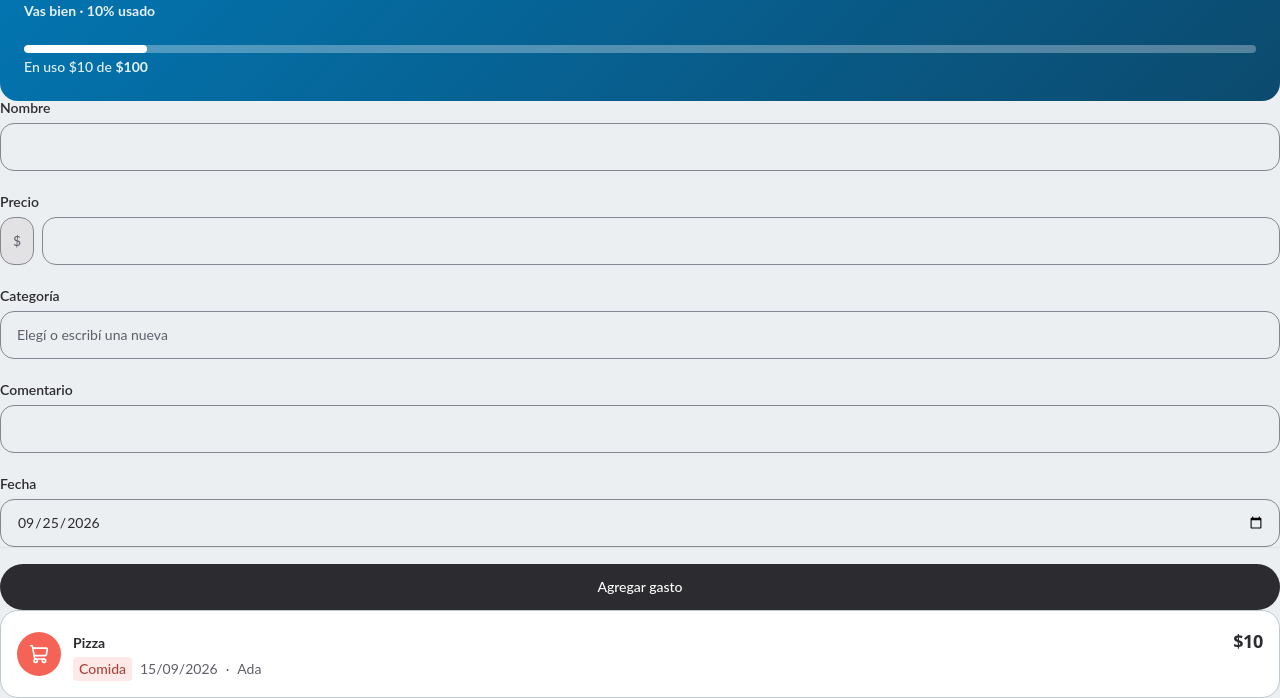
Test: EditExpenseFlow › lets a non-author household member edit an expense
(page scrolled)
Click the button with aria-label "Editar Pizza". click: [39, 654]
box: left=0, top=610, right=1279, bottom=697
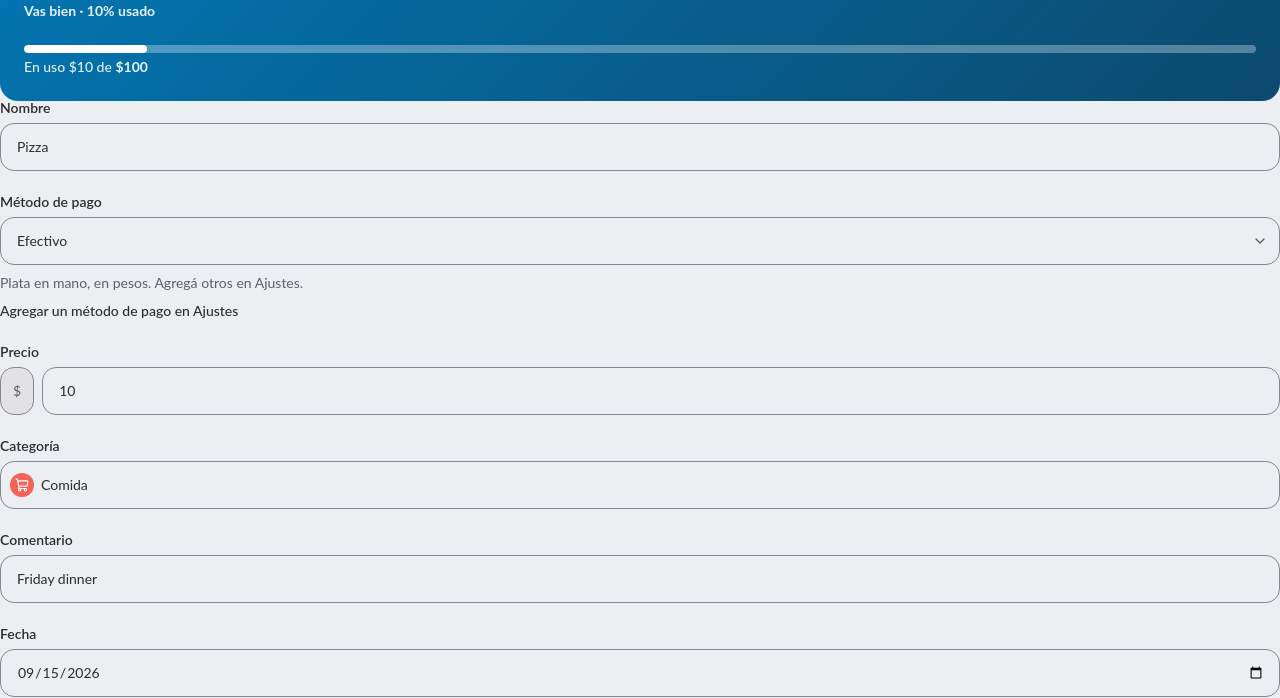
Replace the text in the field labelled "Nombre" with "Shared edit". click: [640, 146]
box: left=0, top=122, right=1279, bottom=170
(page scrolled)
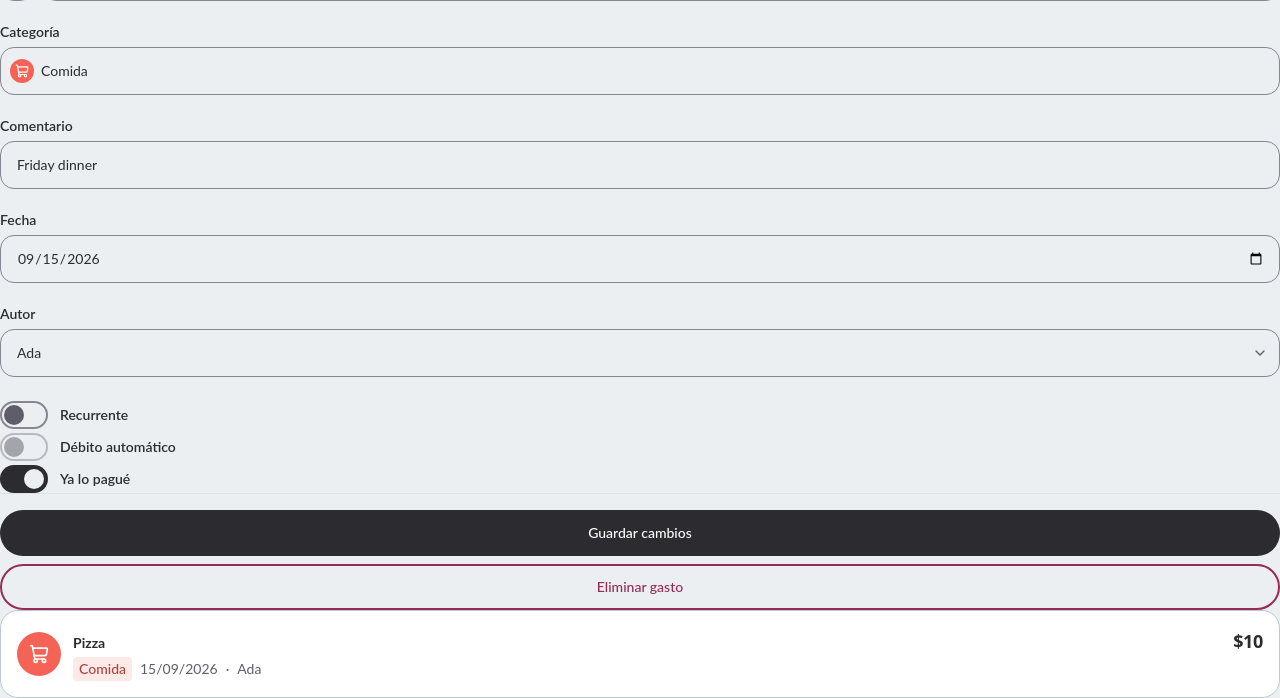
Click the button "Guardar cambios". click: [640, 532]
box: left=0, top=510, right=1279, bottom=556
(page scrolled)
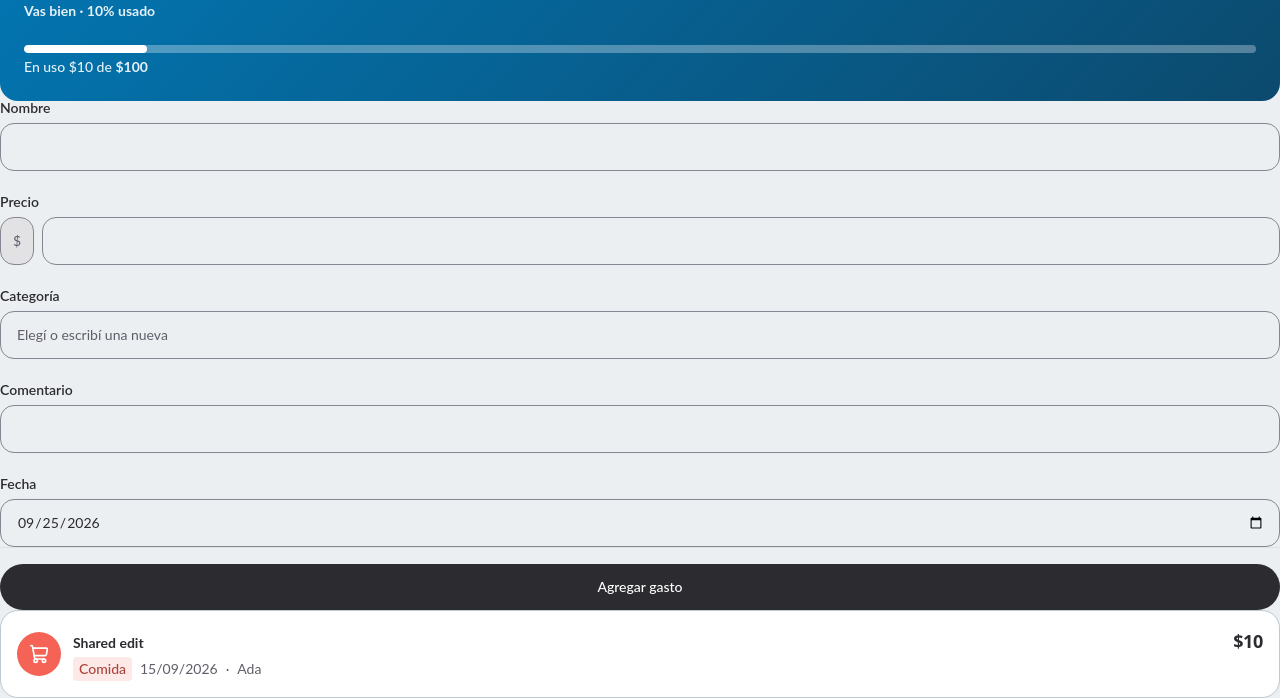
Expected: the text "Shared edit" is shown, left=73, top=632, right=144, bottom=652
